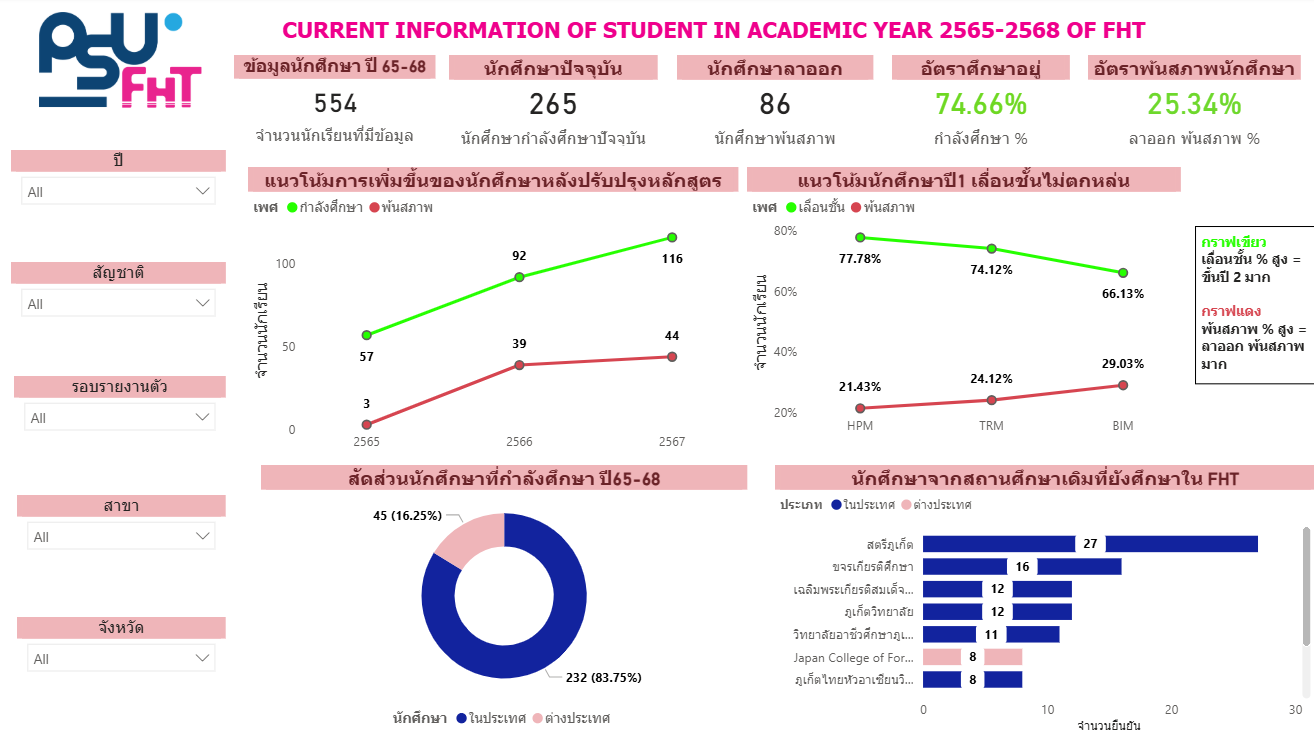

The dashboard page shown, as its layout file describes it:
{"tool":"powerbi","page":{"name":"65-68","canvas":[1280,720],"ordinal":5},"visuals":[{"type":"textbox","box":[253.9,13.6,859.8,42.8],"z":0},{"type":"slicer","title":"รอบรายงานตัว","fields":{"Values":["tTCAS.TCAS"]},"box":[14,369,206,66],"z":1000},{"type":"slicer","title":"สัญชาติ","fields":{"Values":["tCountry.from","Status.nationality"]},"box":[10.7,257.8,209.1,61.3],"z":2000},{"type":"slicer","title":"สาขา","fields":{"Values":["Status.base_major"]},"box":[16.5,484.4,203.3,67.1],"z":3000},{"type":"slicer","title":"ปี","fields":{"Values":["tYears.year"]},"box":[11,149,209,68],"z":4000},{"type":"card","title":"ข้อมูลนักศึกษา ปี 65-68","fields":{"Values":["Dax 2.CountAll"]},"box":[228,56,196,93],"z":5000},{"type":"card","title":"นักศึกษาลาออก","fields":{"Values":["Dax 2 หน้าสี่.Lost Students"]},"box":[658,56,191,93],"z":6000},{"type":"card","title":"นักศึกษาปัจจุบัน","fields":{"Values":["Dax 2 หน้าสี่.Enrolled68"]},"box":[437,56,203,93],"z":7000},{"type":"card","title":"อัตราพ้นสภาพนักศึกษา","fields":{"Values":["Dax 2.Lost65-68"]},"box":[1058,56,207,93],"z":8000},{"type":"card","title":"อัตราศึกษาอยู่","fields":{"Values":["Dax 2.Active Rate"]},"box":[868,56,173,93],"z":9000},{"type":"donutChart","title":"สัดส่วนนักศึกษาที่กำลังศึกษา ปี65-68","fields":{"Category":["tCountry.from"],"Y":["Dax 2 หน้าสี่.Enrolled"]},"box":[240.9,454.8,477,265.5],"z":10000},{"type":"lineChart","title":"แนวโน้มการเพิ่มขึ้นของนักศึกษาหลังปรับหลักสูตร","fields":{"Category":["tYears.year"],"Y":["Dax 2 หน้าสี่.Enrolled68","Dax 2.Lost Students"]},"box":[241,165,477,286],"z":11000},{"type":"slicer","title":"จังหวัด","fields":{"Values":["Status.Province"]},"box":[17,603,203,61],"z":12000},{"type":"lineStackedColumnComboChart","title":"แนวโน้มนักศึกษาปี1 เลื่อนชั้นไม่ตกหล่น","fields":{"Y2":["Dax5.Year 1 Survival Rate","Dax 2 หน้าสี่.Post-Enrollment Loss %"],"Category":["Status.base_major"]},"box":[753.7,165.4,422.2,286.2],"z":13000},{"type":"textbox","box":[1162.3,230.5,117.7,154.7],"z":14000},{"type":"barChart","title":"นักศึกษาจากสถานศึกษาเดิมที่ยังศึกษาใน FHT","fields":{"Series":["tCountry.from"],"Category":["tSchool.school"],"Y":["Dax 2 หน้าสี่.Enrolled68"]},"box":[753.7,454.8,526.3,265.5],"z":15000},{"type":"image","box":[29.8,39.4,158,95],"z":16000}]}

Visuals, with their boxes in screenshot pixels (x1, y1, x2, y2), scaled from the page's 1280x720 canvas onto the 1314x737 screenshot:
textbox: 261/14/1143/58
"รอบรายงานตัว" slicer: 14/378/226/445
"สัญชาติ" slicer: 11/264/226/327
"สาขา" slicer: 17/496/226/565
"ปี" slicer: 11/153/226/222
"ข้อมูลนักศึกษา ปี 65-68" card: 234/57/435/153
"นักศึกษาลาออก" card: 675/57/872/153
"นักศึกษาปัจจุบัน" card: 449/57/657/153
"อัตราพ้นสภาพนักศึกษา" card: 1086/57/1299/153
"อัตราศึกษาอยู่" card: 891/57/1069/153
"สัดส่วนนักศึกษาที่กำลังศึกษา ปี65-68" donutChart: 247/466/737/736
"แนวโน้มการเพิ่มขึ้นของนักศึกษาหลังปรับหลักสูตร" lineChart: 247/169/737/462
"จังหวัด" slicer: 17/617/226/680
"แนวโน้มนักศึกษาปี1 เลื่อนชั้นไม่ตกหล่น" lineStackedColumnComboChart: 774/169/1207/462
textbox: 1193/236/1313/394
"นักศึกษาจากสถานศึกษาเดิมที่ยังศึกษาใน FHT" barChart: 774/466/1313/736
image: 31/40/193/138
